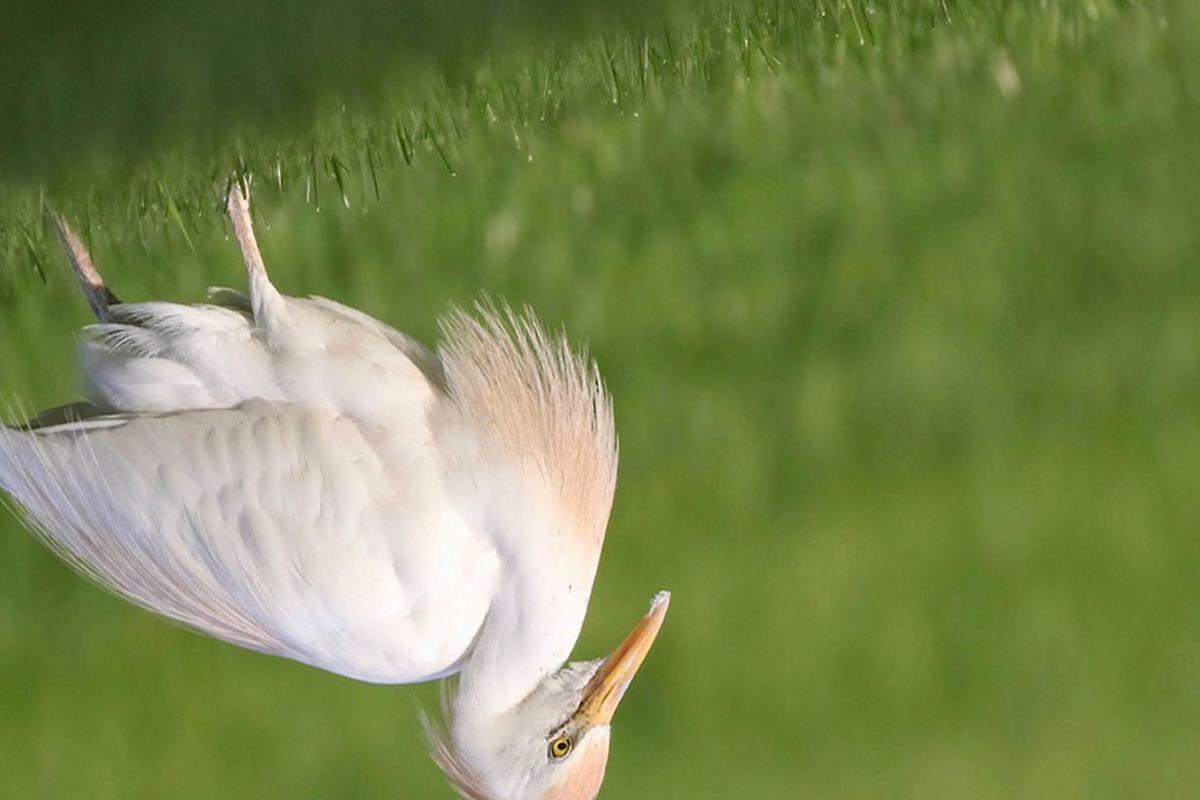egret: (31, 203, 670, 799)
